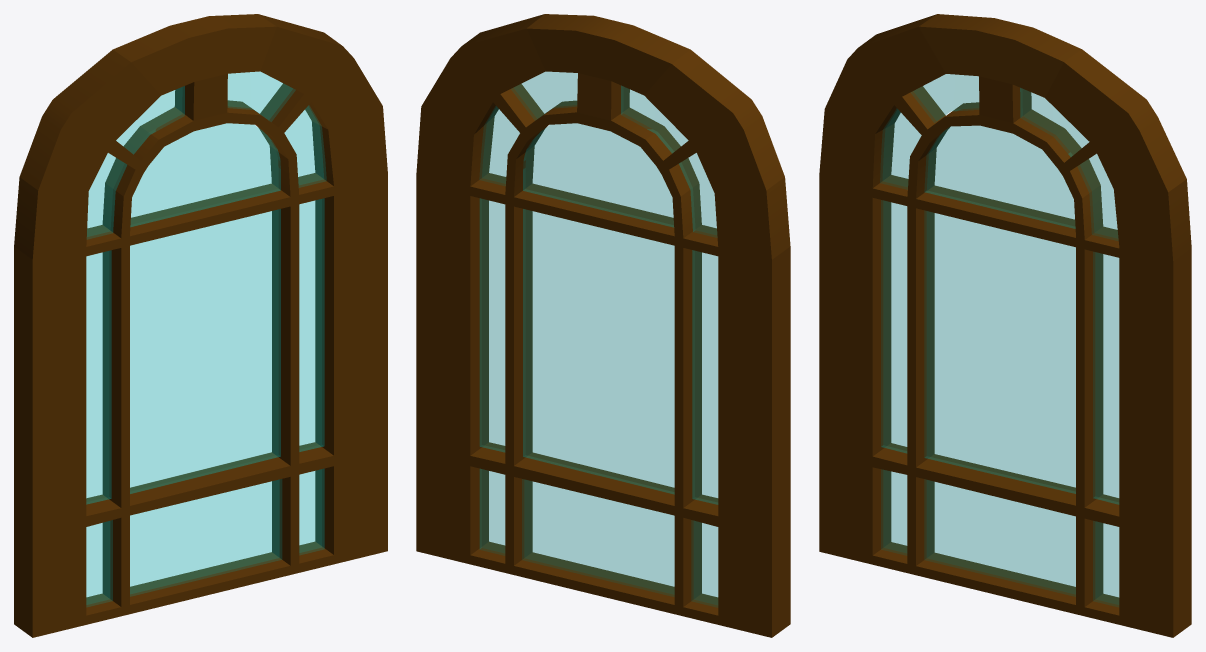
File: Pared Arco con Vidrio FBX.fbx
The picture shows the model from 3 angles, left to right: view 1: azimuth 30°, elevation 25°; view 2: azimuth 150°, elevation 25°; view 3: azimuth 330°, elevation 25°; orthographic projection.
Visible parts, largest first — view 1: Vidriera_Pequeña; view 2: Vidriera_Pequeña; view 3: Vidriera_Pequeña.
Boxes of the visible parts, x1,y1,x2,y2 form: Vidriera_Pequeña: [14, 14, 387, 637]; Vidriera_Pequeña: [416, 14, 790, 637]; Vidriera_Pequeña: [819, 14, 1191, 637].
Size of the model in its own units: 199 by 300 by 19.29.
